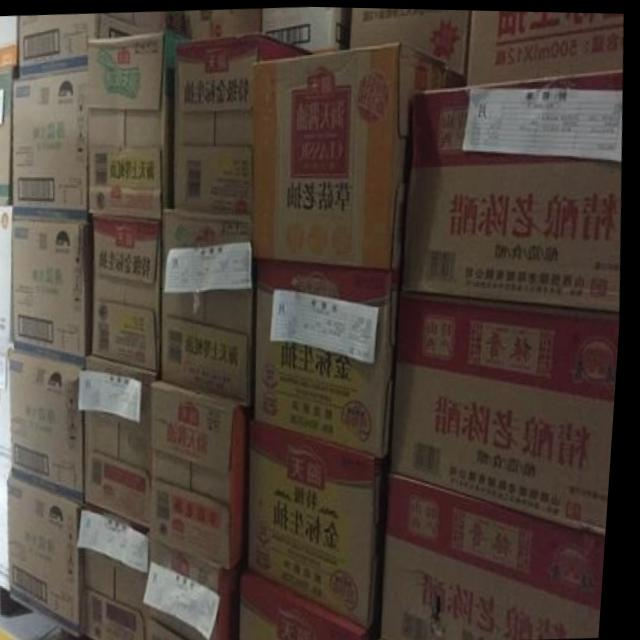box: (404, 66, 624, 310), (396, 292, 624, 526), (253, 42, 467, 267), (389, 473, 613, 640), (253, 417, 396, 628), (260, 260, 404, 458), (178, 33, 313, 212), (156, 381, 255, 568), (166, 210, 261, 401), (89, 29, 179, 217), (85, 353, 165, 528), (15, 476, 92, 638), (17, 208, 96, 363), (16, 348, 90, 504), (14, 66, 92, 213), (467, 8, 624, 80), (97, 214, 166, 374), (149, 536, 247, 640), (17, 11, 165, 77), (85, 504, 156, 640), (248, 569, 376, 640), (351, 6, 471, 73), (0, 582, 88, 640), (0, 464, 19, 592), (0, 339, 17, 471), (0, 207, 16, 343), (0, 70, 14, 204)
